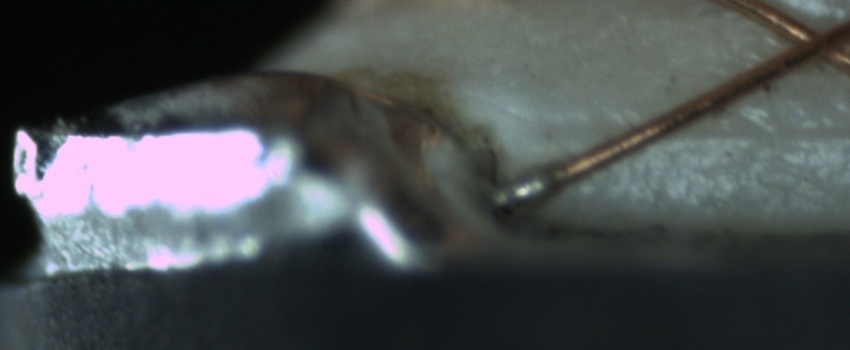CL: (763, 10, 847, 74)
DL: (541, 99, 850, 164)
TS: (491, 171, 563, 209)
TTCW: (497, 152, 603, 211)
